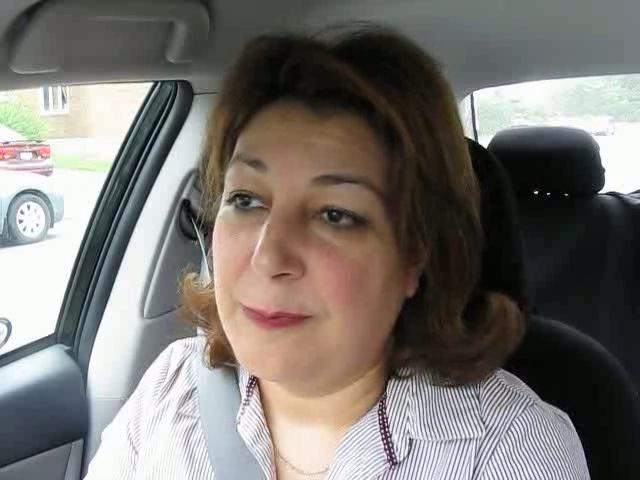no_yawn: (213, 289, 330, 348)
open_eyeL: (216, 183, 278, 224)
open_eyeR: (296, 193, 381, 242)
